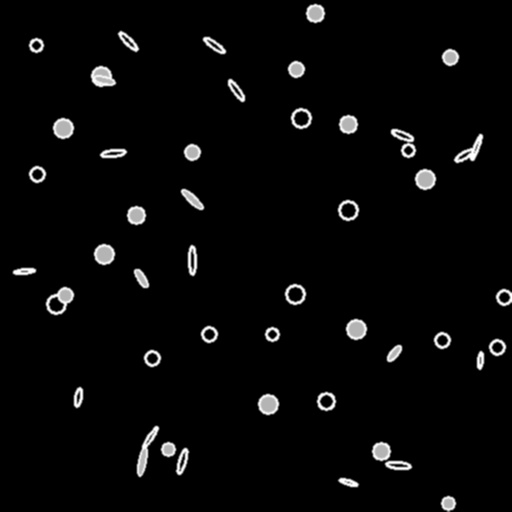pseudomonas: (180, 188, 204, 210), (117, 30, 139, 52), (226, 78, 246, 102), (203, 36, 225, 54), (141, 426, 159, 448), (469, 133, 483, 161), (175, 447, 189, 475), (136, 446, 148, 476), (453, 147, 475, 163), (390, 128, 414, 142), (385, 344, 403, 362), (133, 268, 149, 288), (93, 74, 115, 86), (100, 148, 126, 158), (188, 246, 196, 274), (73, 387, 83, 407), (338, 477, 358, 487), (386, 461, 410, 469), (14, 268, 34, 274), (477, 351, 483, 369)
synechocystis: (292, 109, 310, 127), (286, 285, 304, 303), (339, 201, 357, 219), (259, 395, 277, 413), (416, 170, 434, 188), (47, 295, 65, 313), (95, 245, 113, 263), (54, 119, 72, 137), (347, 320, 365, 338), (92, 67, 110, 85), (373, 443, 389, 459), (318, 393, 334, 409), (128, 207, 144, 223), (340, 116, 356, 132), (307, 5, 323, 21), (185, 145, 199, 159), (202, 327, 216, 341), (443, 50, 457, 64), (490, 340, 504, 354), (435, 333, 449, 347), (58, 288, 72, 302), (30, 167, 44, 181), (145, 351, 159, 365), (289, 62, 303, 76), (497, 290, 511, 304), (402, 144, 414, 156), (162, 443, 174, 455), (266, 328, 278, 340), (30, 39, 42, 51), (442, 497, 454, 509)
